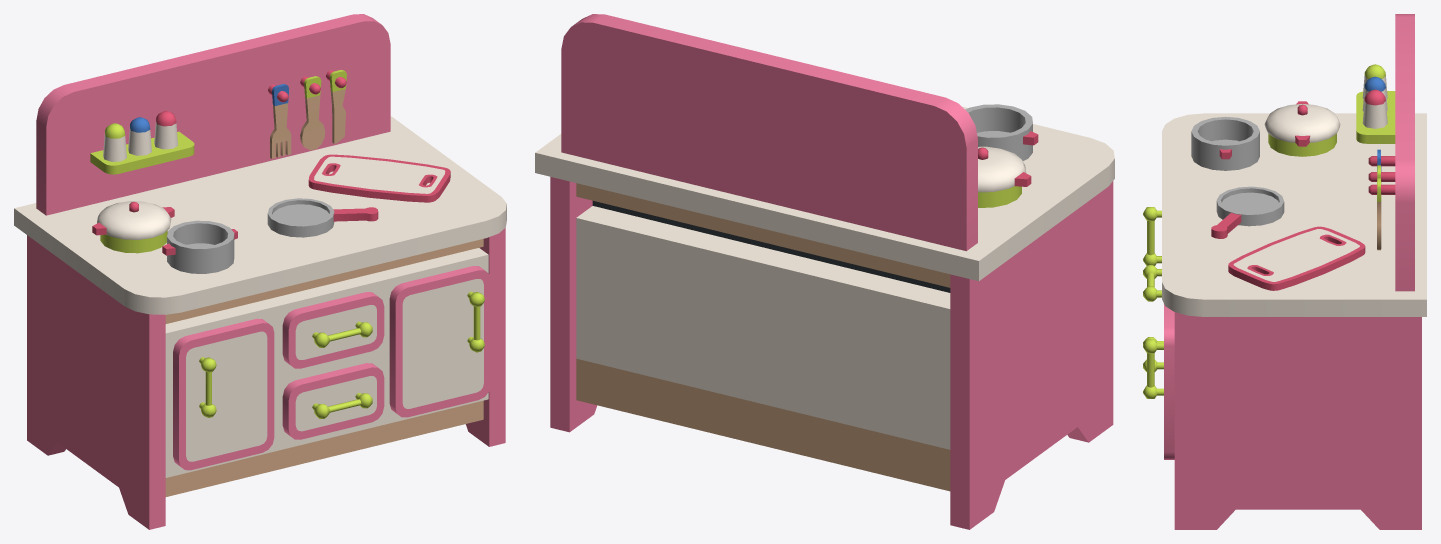
File: Counter_01.fbx
3 renders of one model, left to right at view 1: azimuth 30°, elevation 25°; view 2: azimuth 150°, elevation 25°; view 3: azimuth 270°, elevation 25°, orthographic. The views are drawn at different scales.
Visible parts, largest first — view 1: Counter_01; view 2: Counter_01; view 3: Counter_01.
Part boxes in pixels (<box>): Counter_01: <box>14,14,506,529</box>; Counter_01: <box>535,14,1114,529</box>; Counter_01: <box>1143,14,1426,529</box>.
Bounding box in the file's own units: 0.9651 × 0.8549 × 0.6216.
